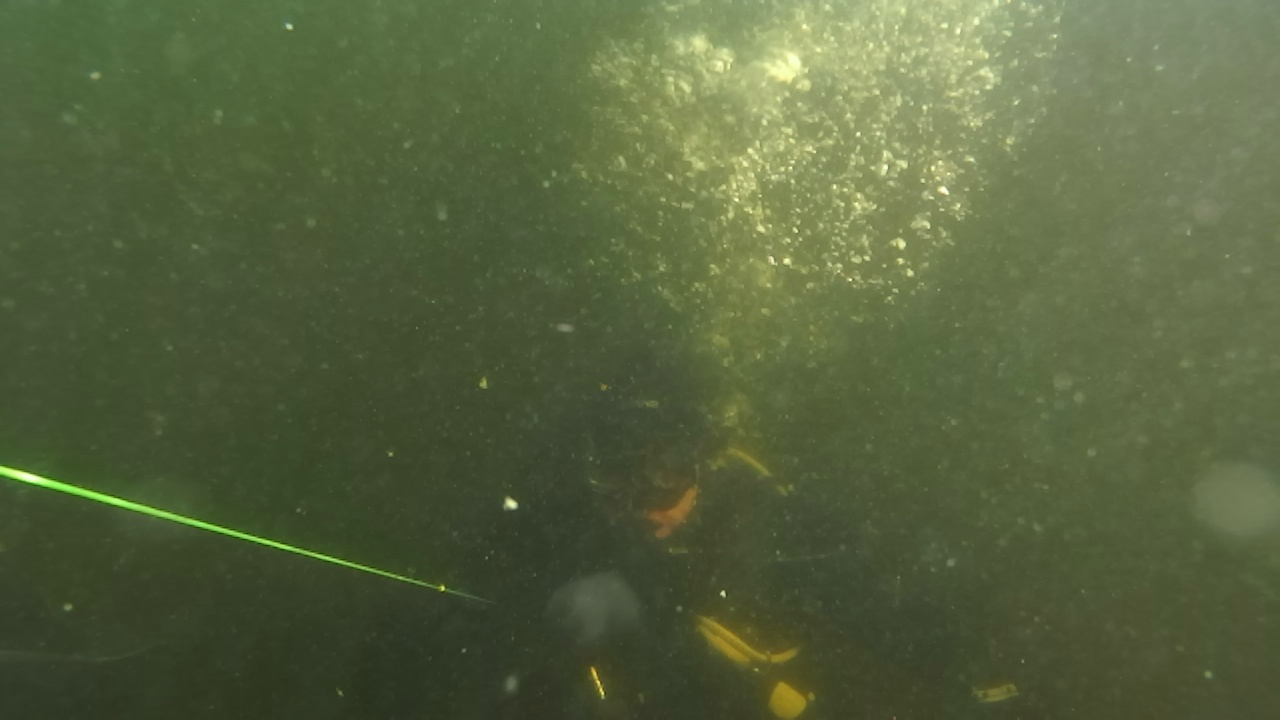Head: (570, 390, 732, 540)
